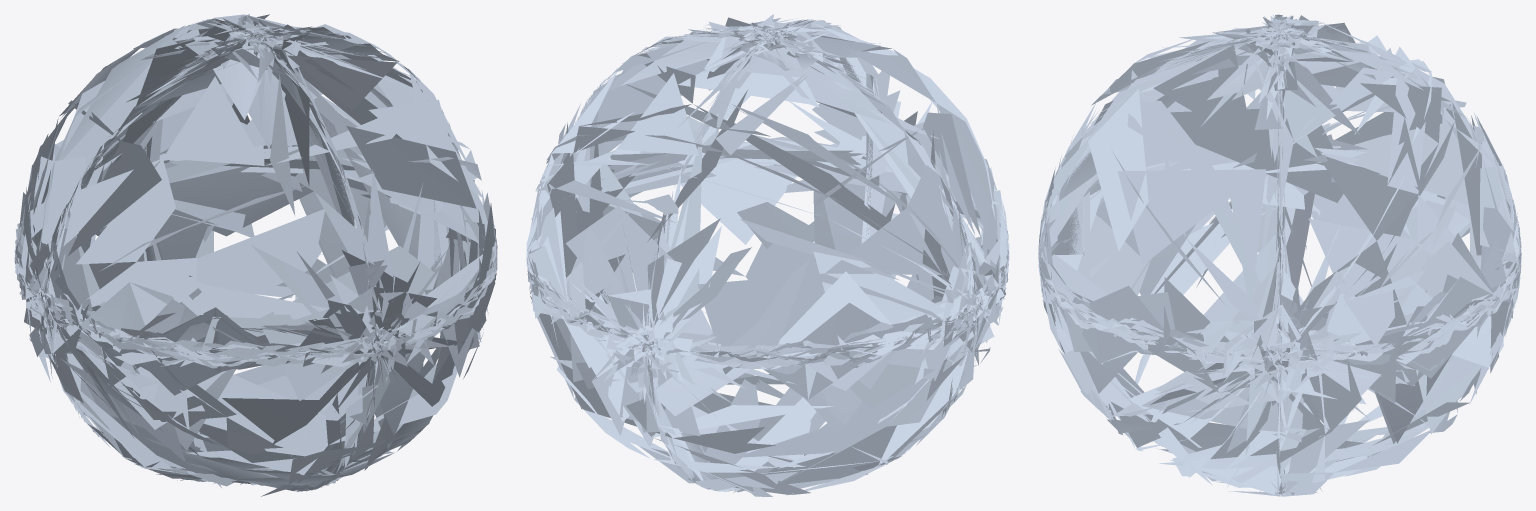
3 renders of one model, left to right at view 1: azimuth 30°, elevation 25°; view 2: azimuth 150°, elevation 25°; view 3: azimuth 270°, elevation 25°, orthographic.
Parts seen in each view (by area): view 1: 2D-27-structural; view 2: 2D-27-structural; view 3: 2D-27-structural.
Boxes of the visible parts, x1,y1,x2,y2 form: 2D-27-structural: (14,14,497,496); 2D-27-structural: (526,14,1009,496); 2D-27-structural: (1038,14,1521,496).
Bounding box in the file's own units: 2 × 2 × 2.
